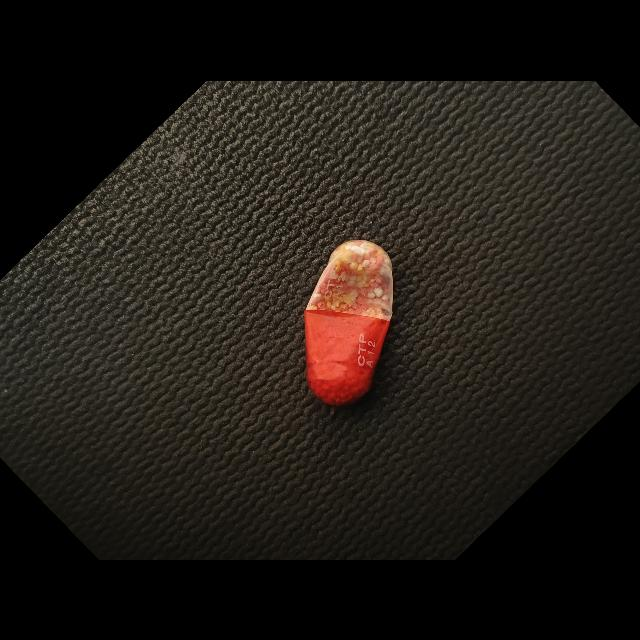Defective Capsule: (304, 239, 393, 405)
